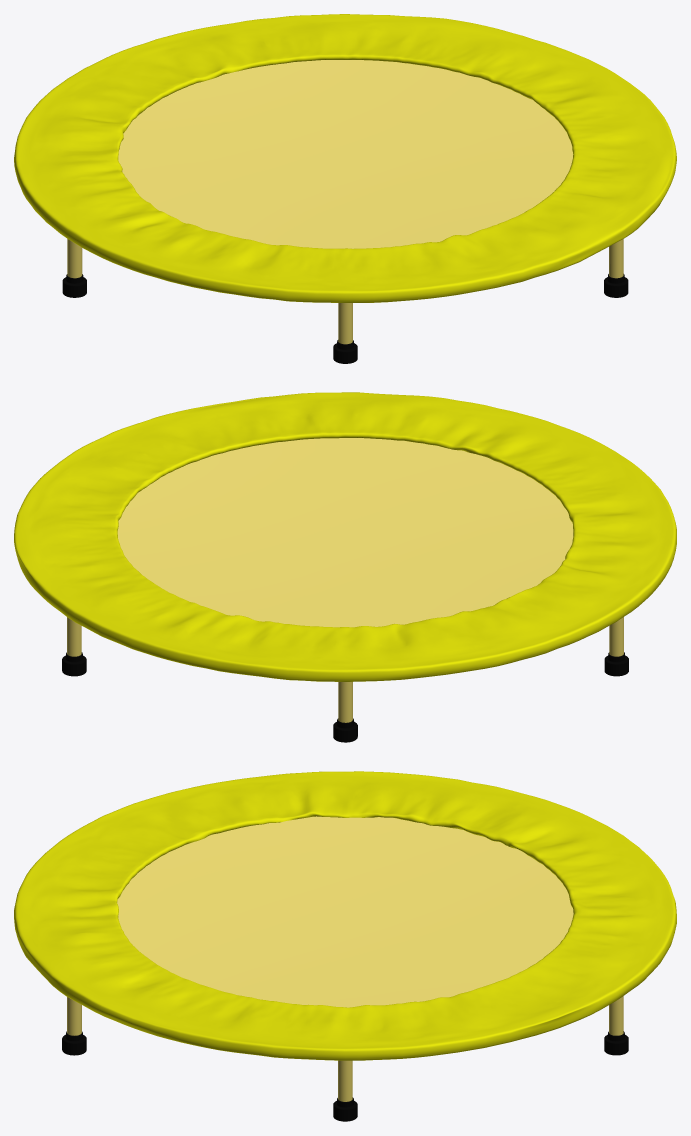
File: Trampoline.fbx
The picture shows the model from 3 angles, top to bottom: view 1: azimuth 30°, elevation 25°; view 2: azimuth 150°, elevation 25°; view 3: azimuth 270°, elevation 25°; orthographic projection.
Parts seen in each view (by area): view 1: Arch27_066_00, Arch27_066_21, Arch27_066_05; view 2: Arch27_066_00, Arch27_066_21, Arch27_066_05; view 3: Arch27_066_00, Arch27_066_21, Arch27_066_05.
Boxes of the visible parts, bbox=[...] form: Arch27_066_00: bbox=[14, 14, 676, 302]; Arch27_066_21: bbox=[118, 60, 573, 248]; Arch27_066_05: bbox=[62, 239, 628, 363]; Arch27_066_00: bbox=[14, 392, 676, 681]; Arch27_066_21: bbox=[117, 438, 573, 627]; Arch27_066_05: bbox=[62, 617, 628, 742]; Arch27_066_00: bbox=[14, 771, 676, 1060]; Arch27_066_21: bbox=[117, 816, 573, 1007]; Arch27_066_05: bbox=[62, 996, 628, 1121].
Size of the model in its own units: 1.92 by 0.2455 by 1.92.
